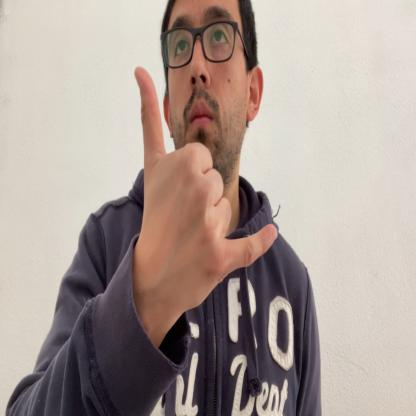Y: (134, 66, 277, 301)
